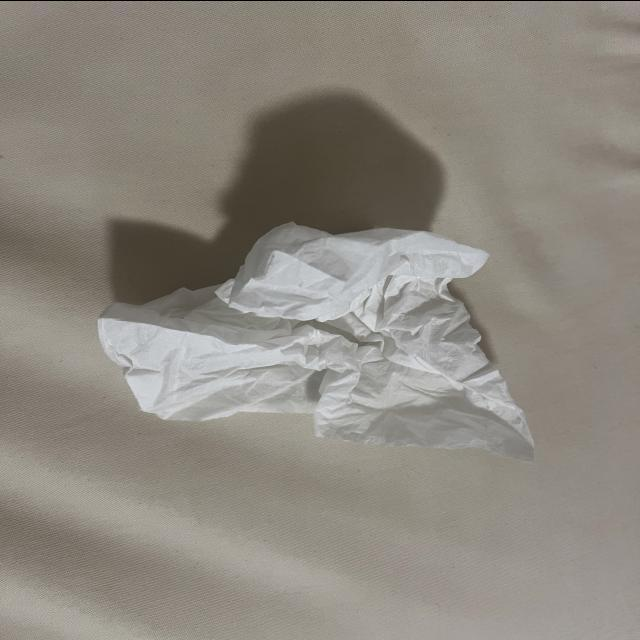Paper: (87, 183, 519, 471)
